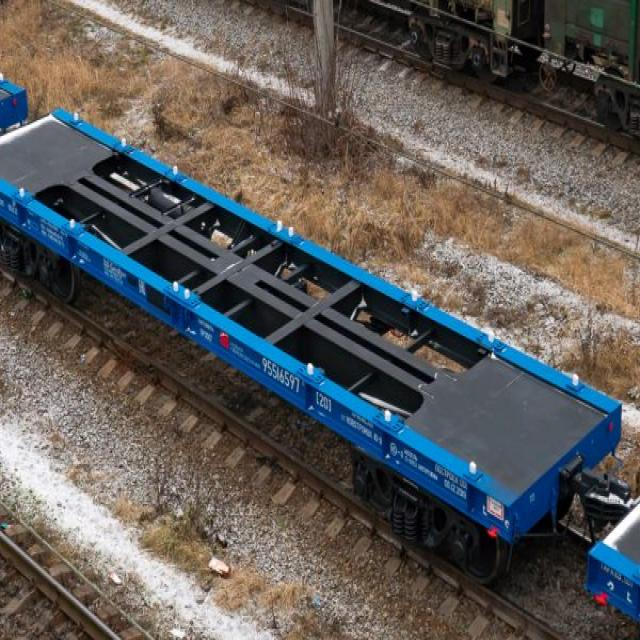flatcar: (0, 92, 627, 591)
